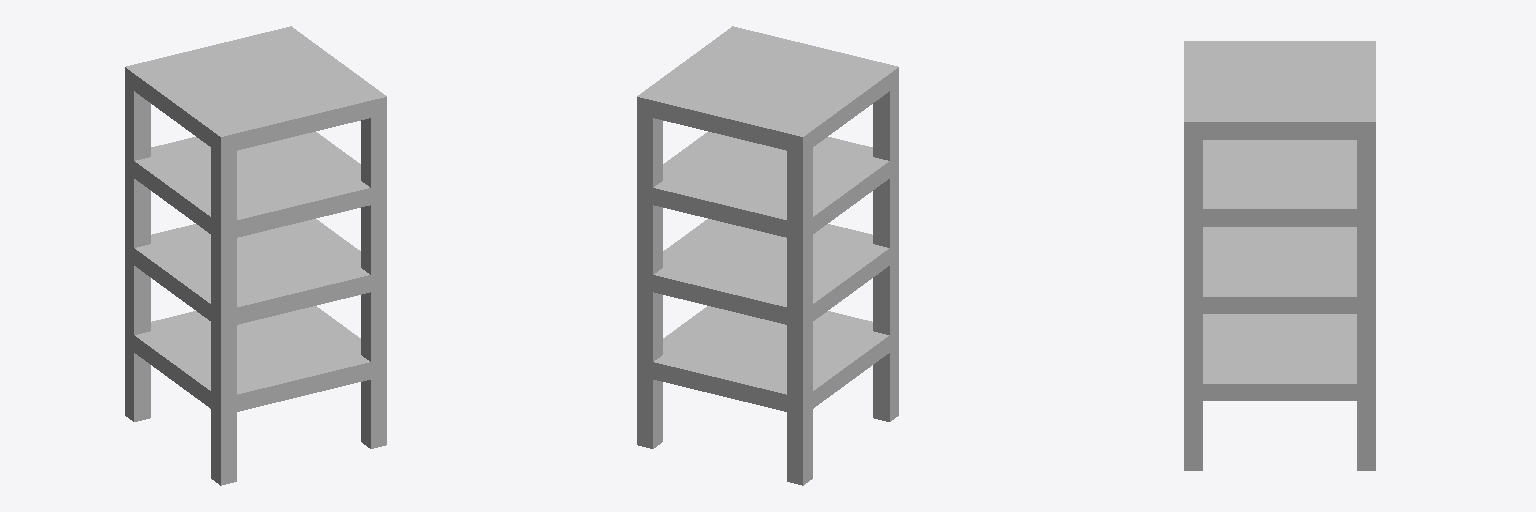
The model's file is rack.obj.
3 views of the same model, side by side, from view 1: azimuth 30°, elevation 25°; view 2: azimuth 150°, elevation 25°; view 3: azimuth 270°, elevation 25° (orthographic).
Parts seen in each view (by area): view 1: rack; view 2: rack; view 3: rack.
Part boxes in pixels (left/top/right/bottom): rack: left=125, top=26, right=386, bottom=485; rack: left=637, top=26, right=898, bottom=485; rack: left=1184, top=41, right=1375, bottom=470.
Bounding box in the file's own units: 10 × 20 × 10.